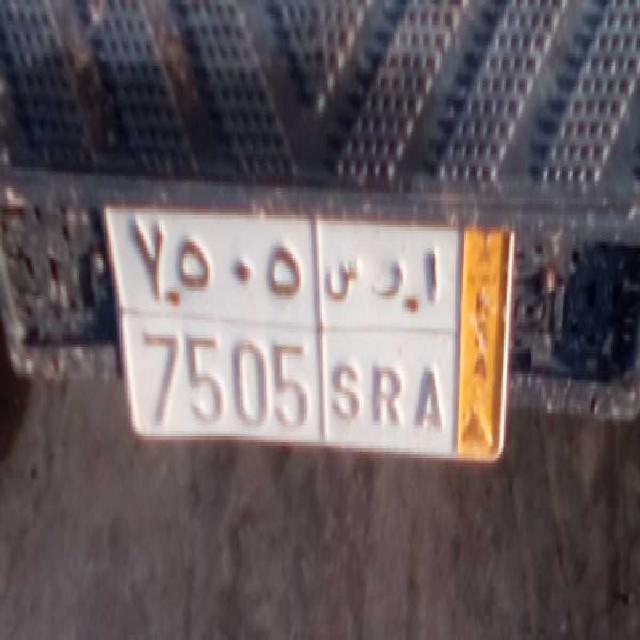license_plate: (122, 311, 458, 450)
